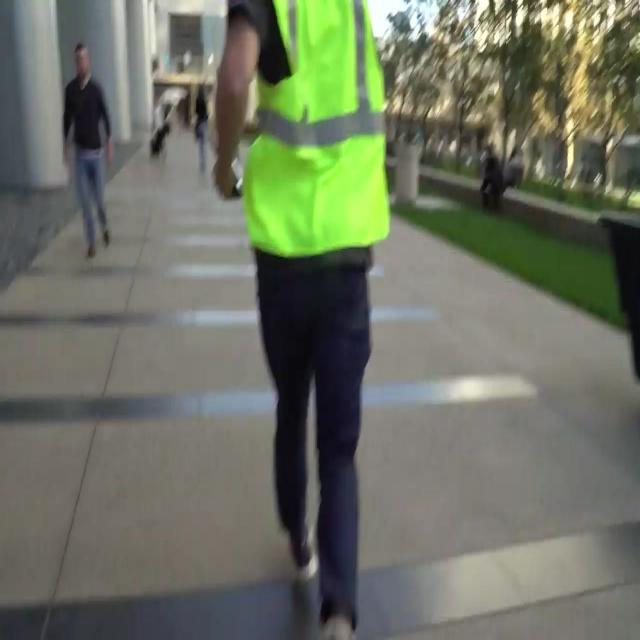Reflective-Jacket: (226, 2, 400, 279)
